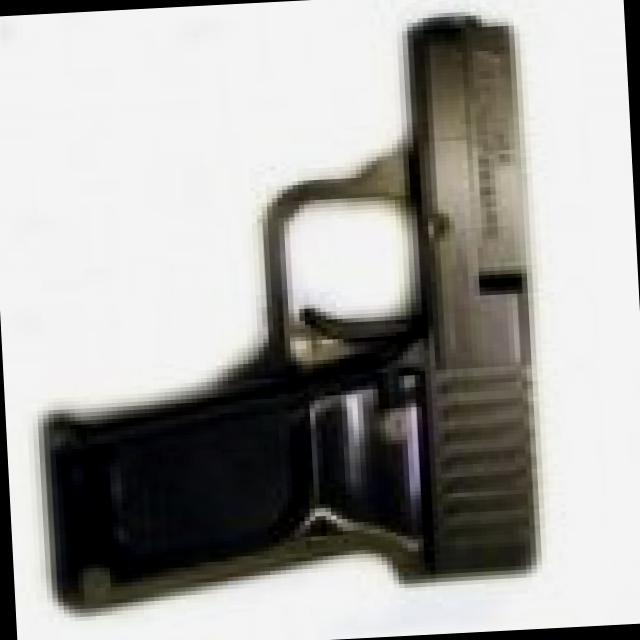handgun: (32, 12, 564, 610)
